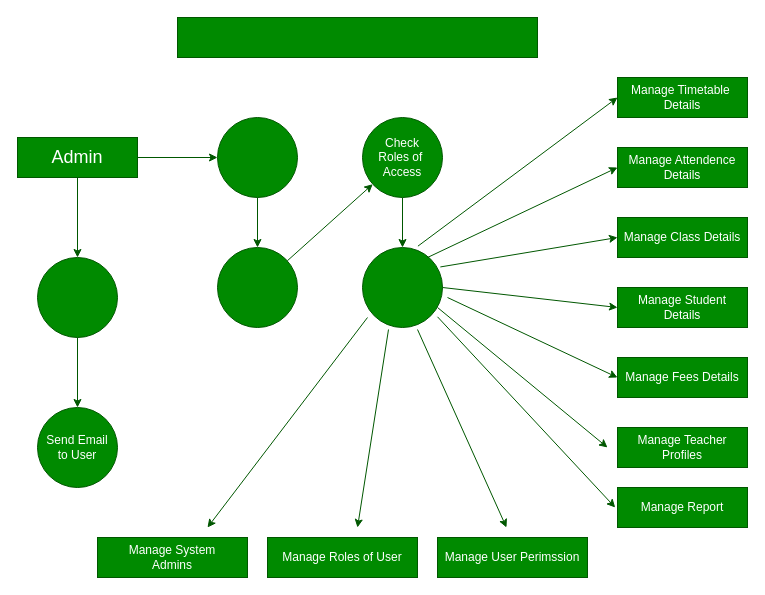
Image size: 765x595. Some labels were removed from this diagram. Each missing label, with the centre of its shape:
Check Credentails: (x=257, y=287)
Forget Password: (x=77, y=297)
Login to System: (x=257, y=157)
Manage Modulus: (x=402, y=287)
Student Information System: (x=357, y=37)
